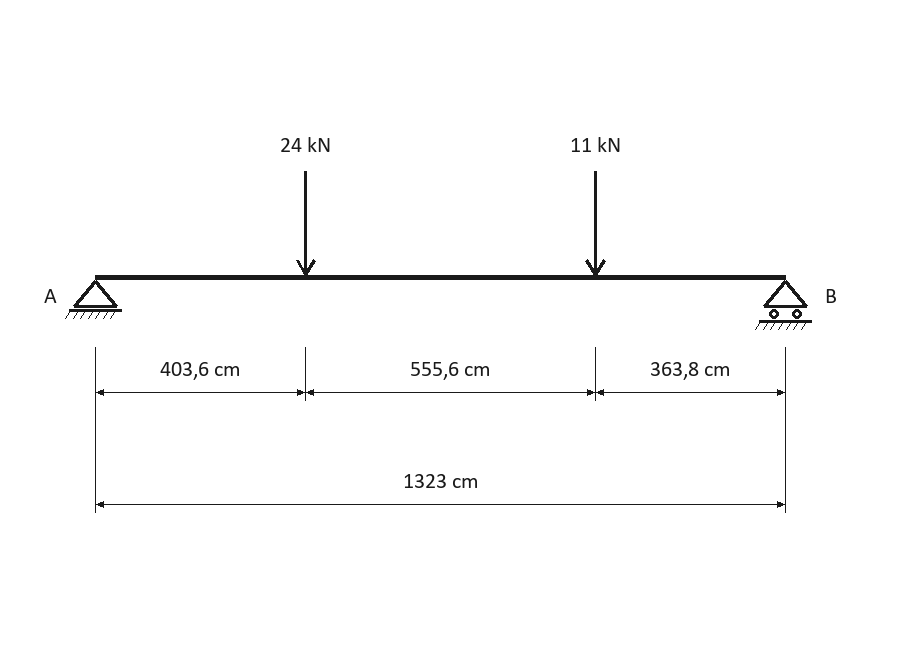pin_support: (65, 280, 122, 319)
point_load: (585, 171, 606, 276), (296, 171, 316, 276)
roller_support: (755, 280, 812, 330)
